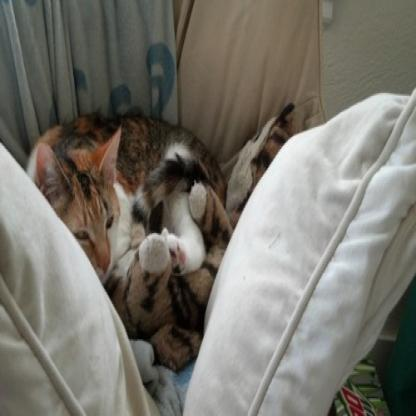Target: (29, 106, 297, 374)
